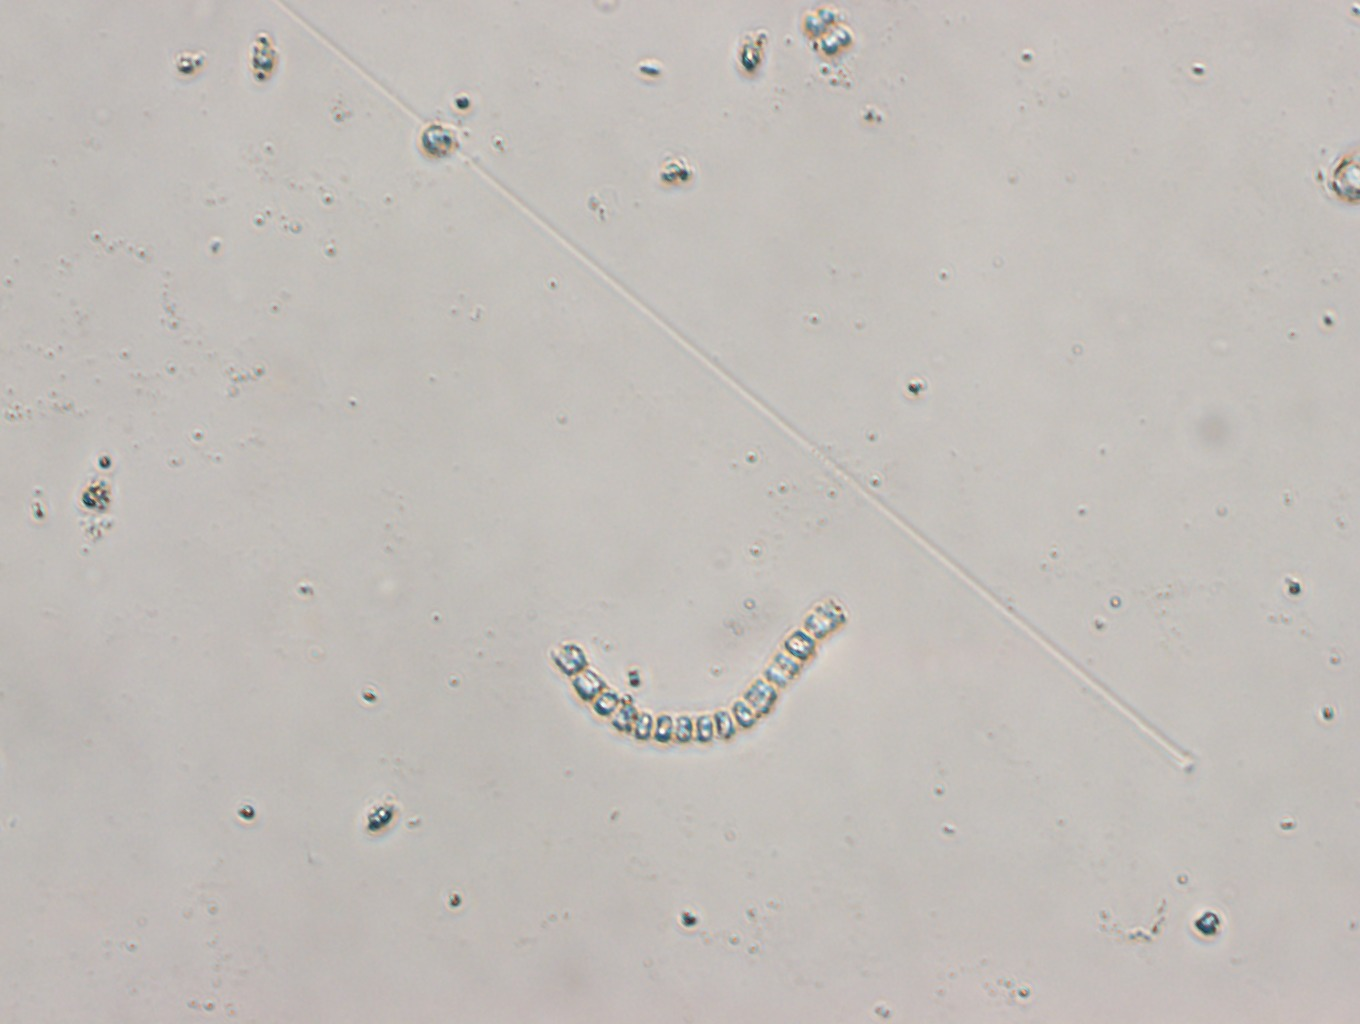skeletonema: (547, 596, 851, 751)
